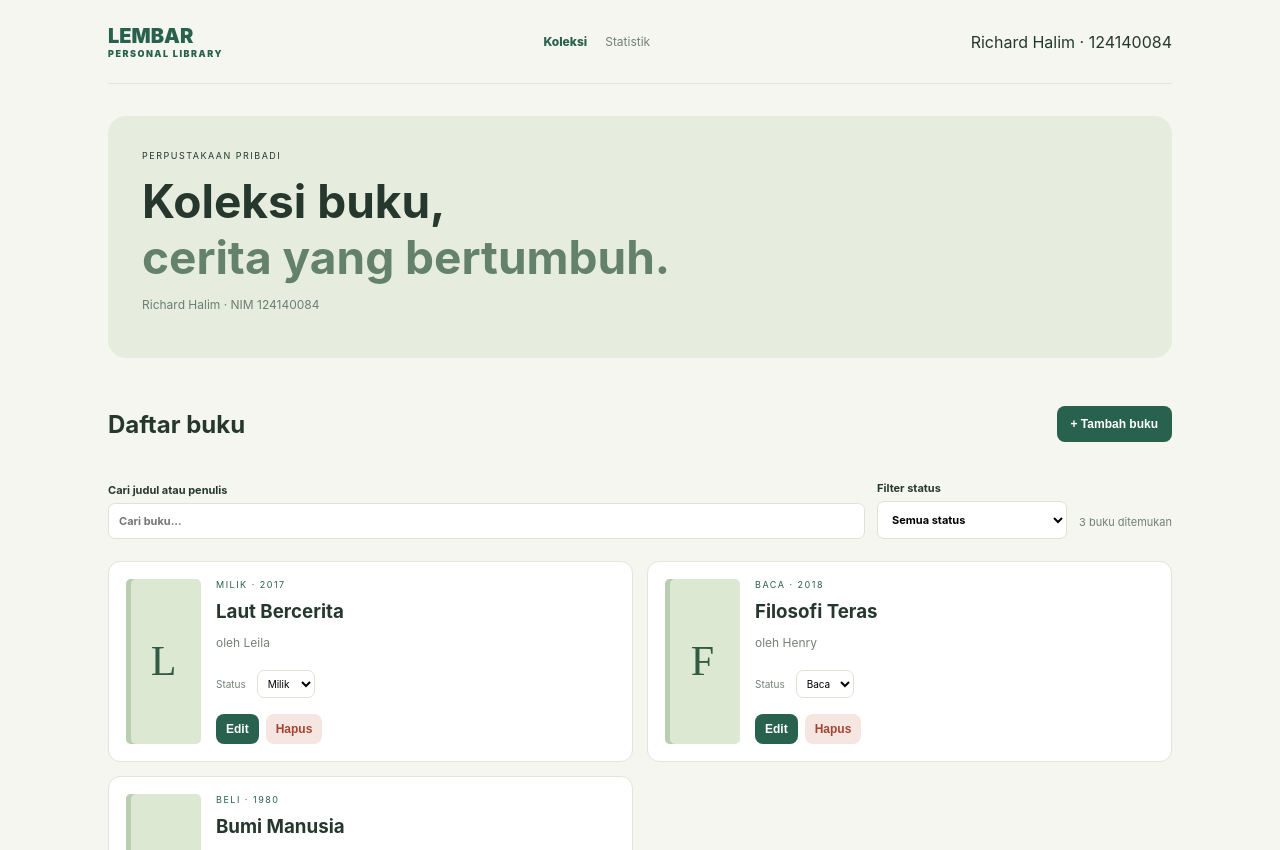
Scenario: memperbarui status dan statistik melalui navigasi
Select "Baca" in the dropdown named "Status Laut Bercerita" at point(286, 684), box top-left (257, 670), bottom-right (315, 698)
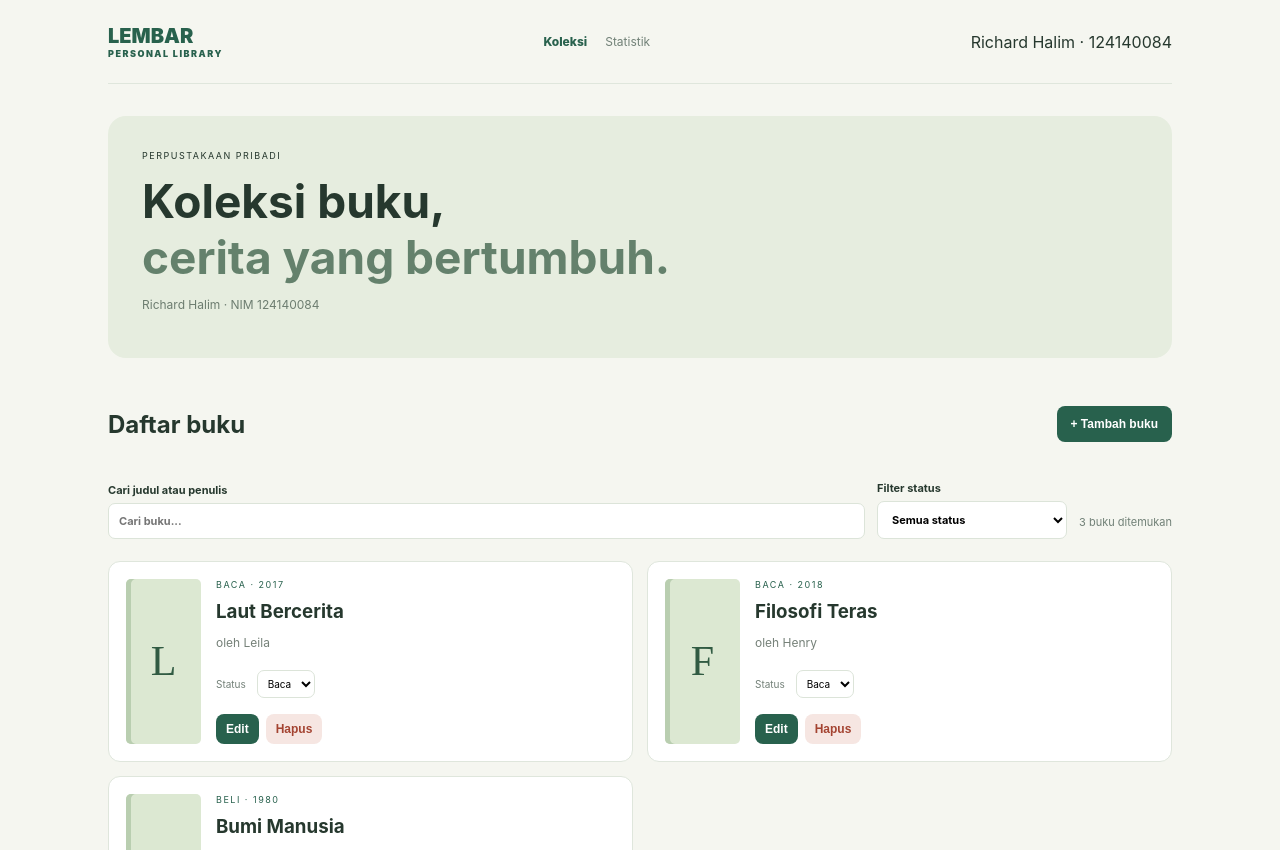
Click the link "Statistik" at point(628, 42), box top-left (605, 34), bottom-right (650, 49)
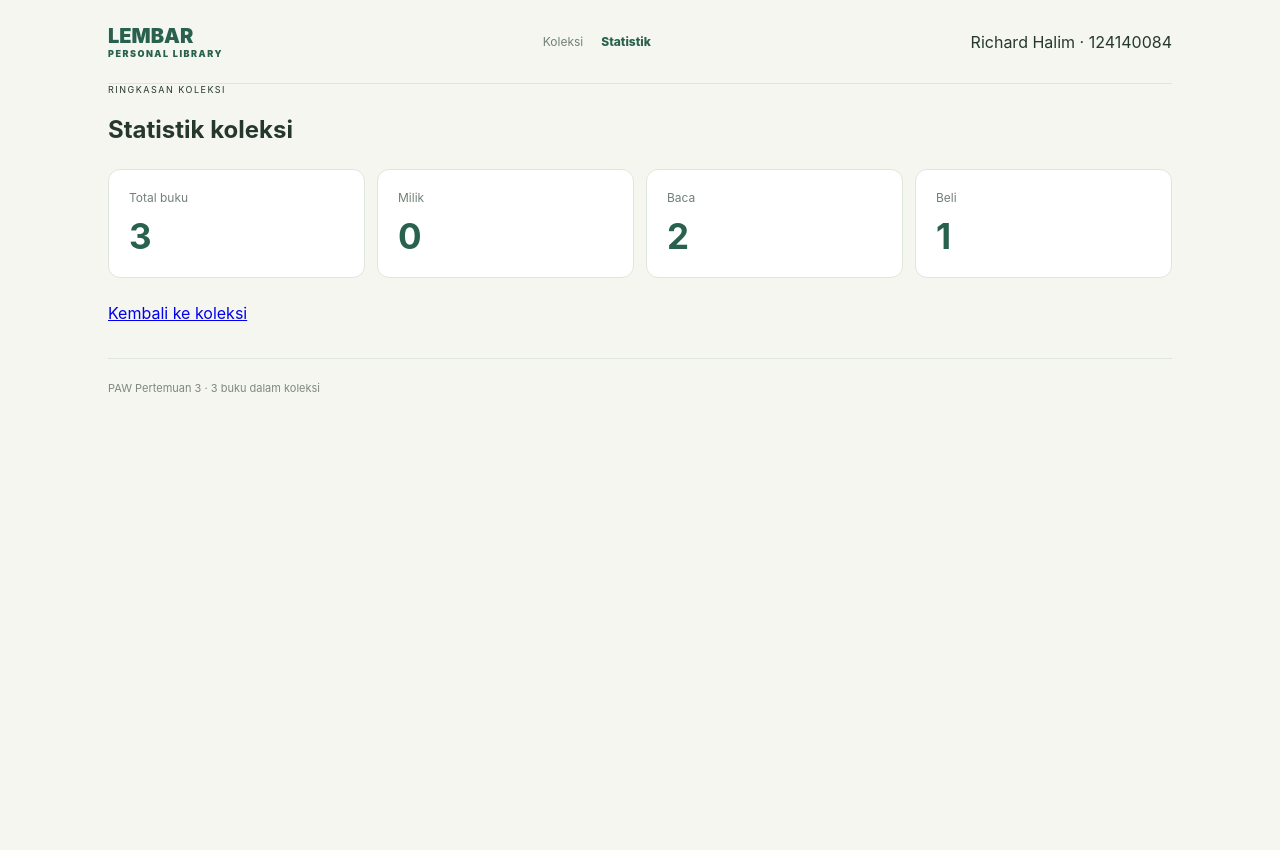
Check: the heading "Statistik koleksi" is shown, box top-left (108, 115), bottom-right (293, 144)
Check: the text "Baca" shows "2", box top-left (667, 215), bottom-right (689, 257)
